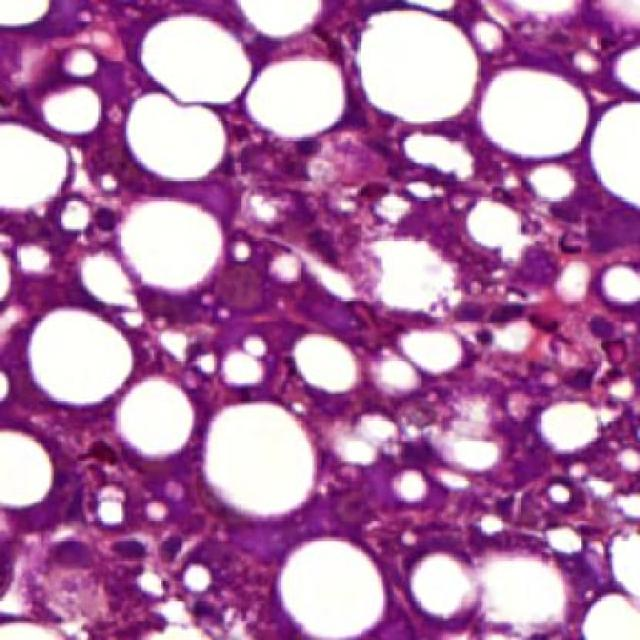steatosis: (192, 402, 326, 516), (346, 12, 476, 121), (275, 532, 394, 634), (24, 308, 140, 406), (117, 200, 231, 296), (243, 57, 349, 141)
